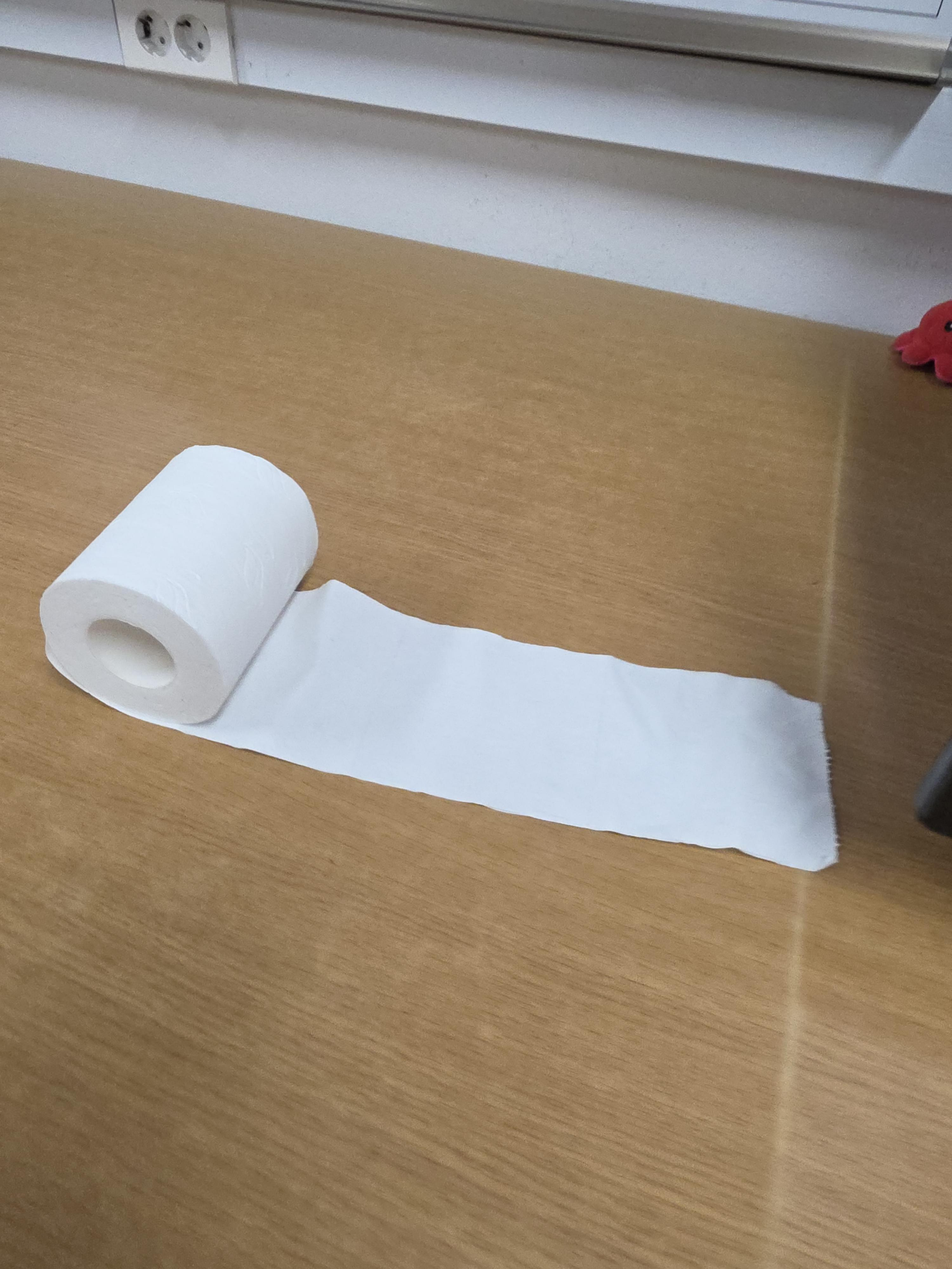tissue: (39, 445, 839, 872)
